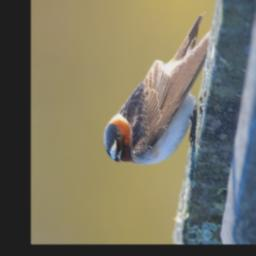Swallow: (99, 12, 220, 169)
